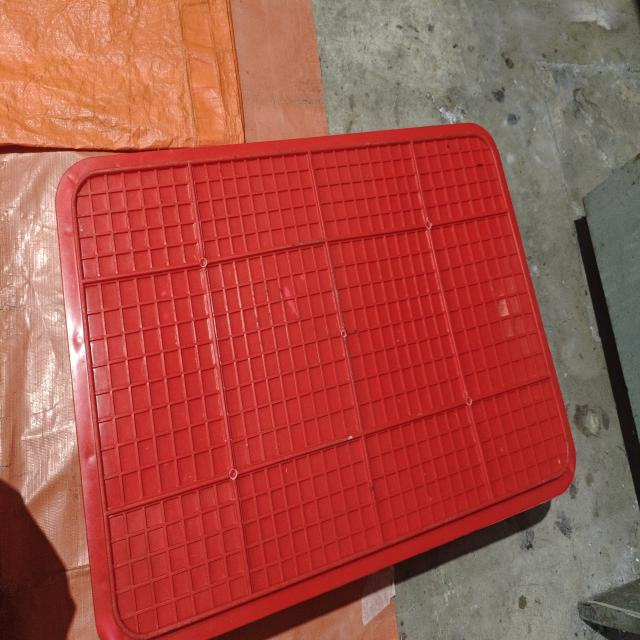red plastic box: (55, 123, 577, 639)
